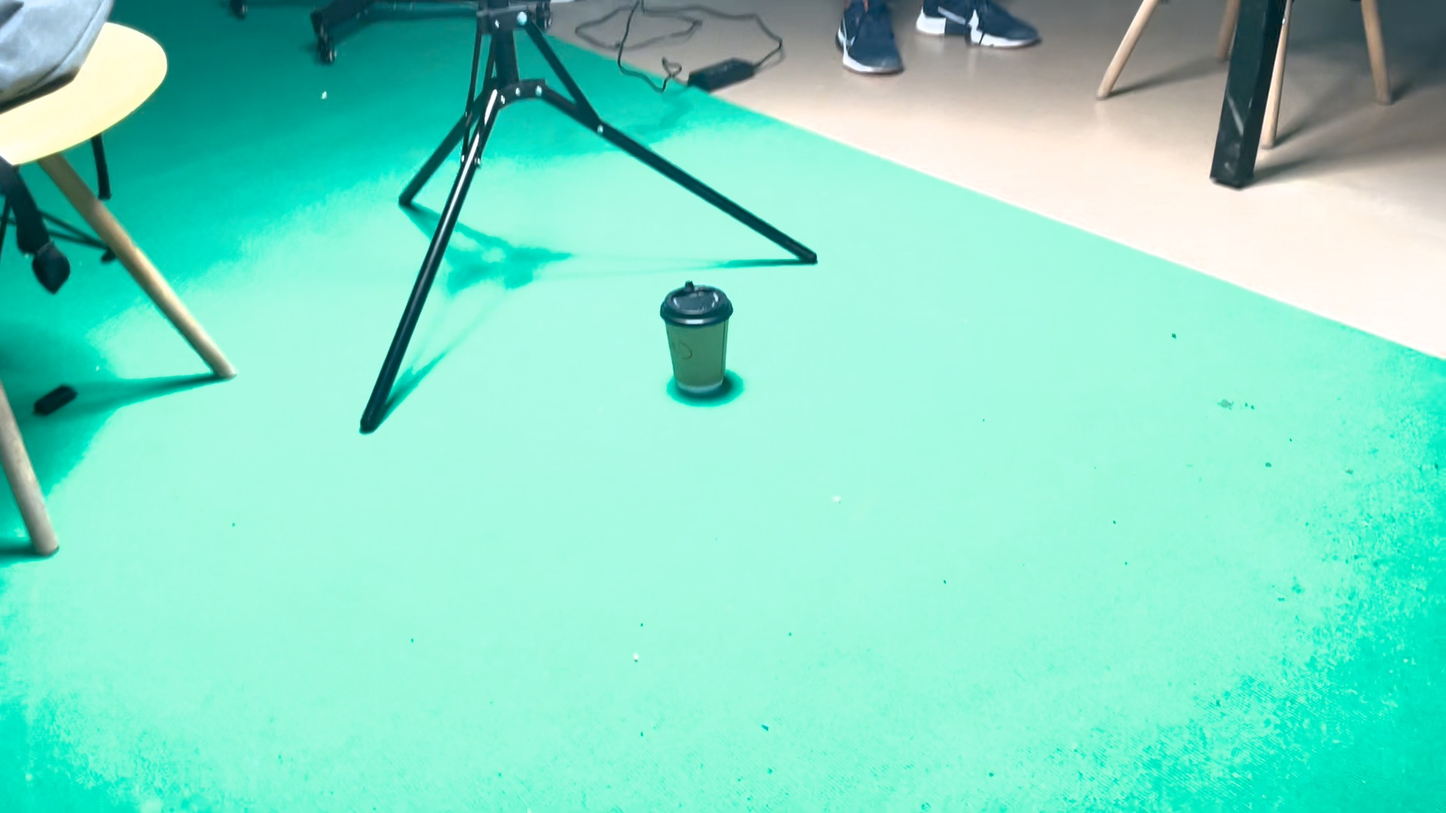cup: (689, 449, 799, 606)
